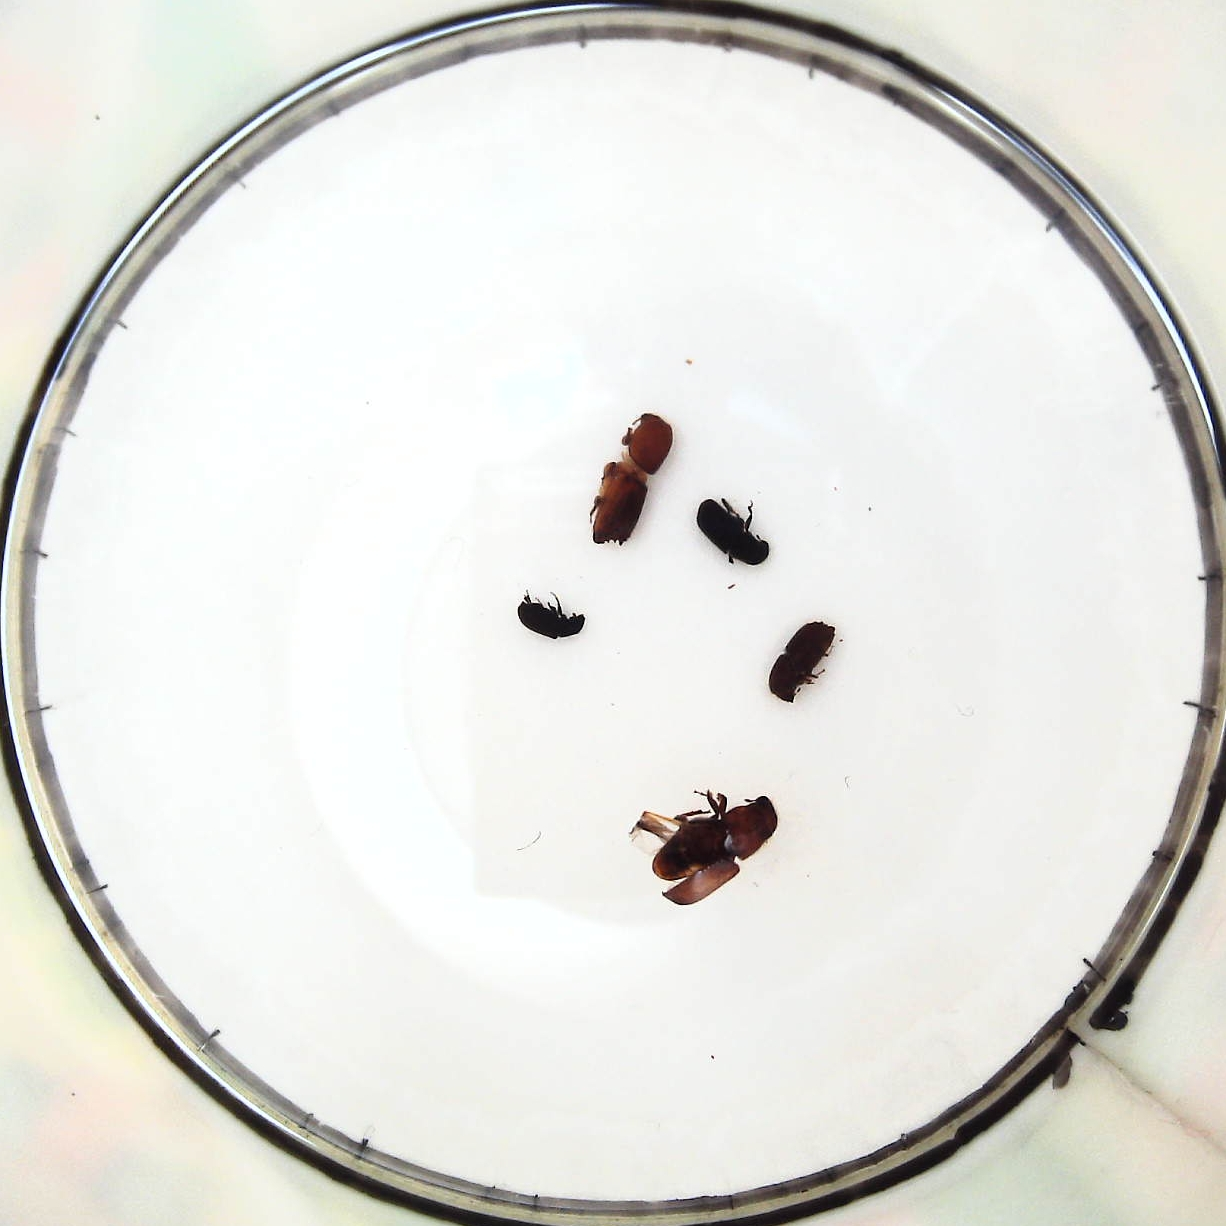Boerner: (591, 412, 668, 549)
Leconte: (634, 788, 778, 907)
Linnaeus: (775, 622, 831, 703)
armandi: (702, 495, 765, 568)
coleoptera: (514, 591, 587, 642)
